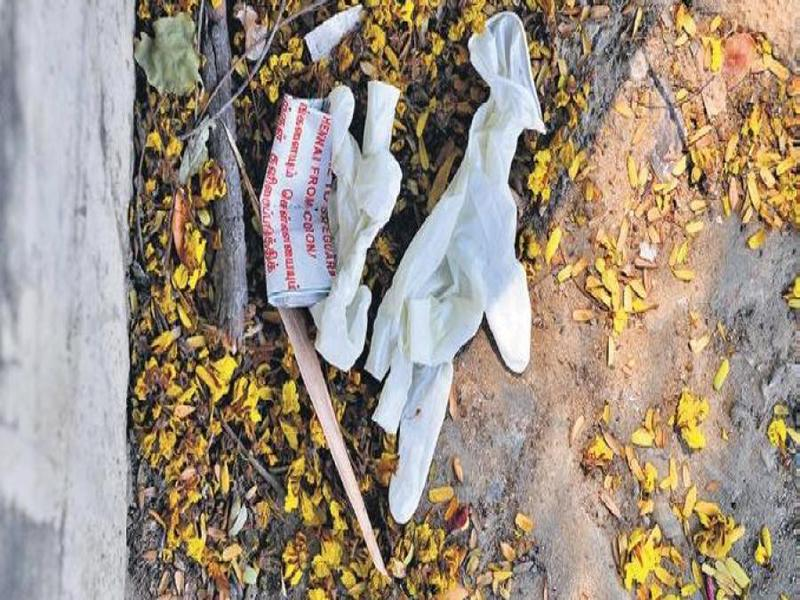gloves: (362, 8, 558, 524), (307, 74, 405, 367)
leaf: (673, 390, 717, 455), (170, 221, 208, 295), (276, 533, 311, 586), (194, 357, 237, 399), (275, 419, 308, 452)
